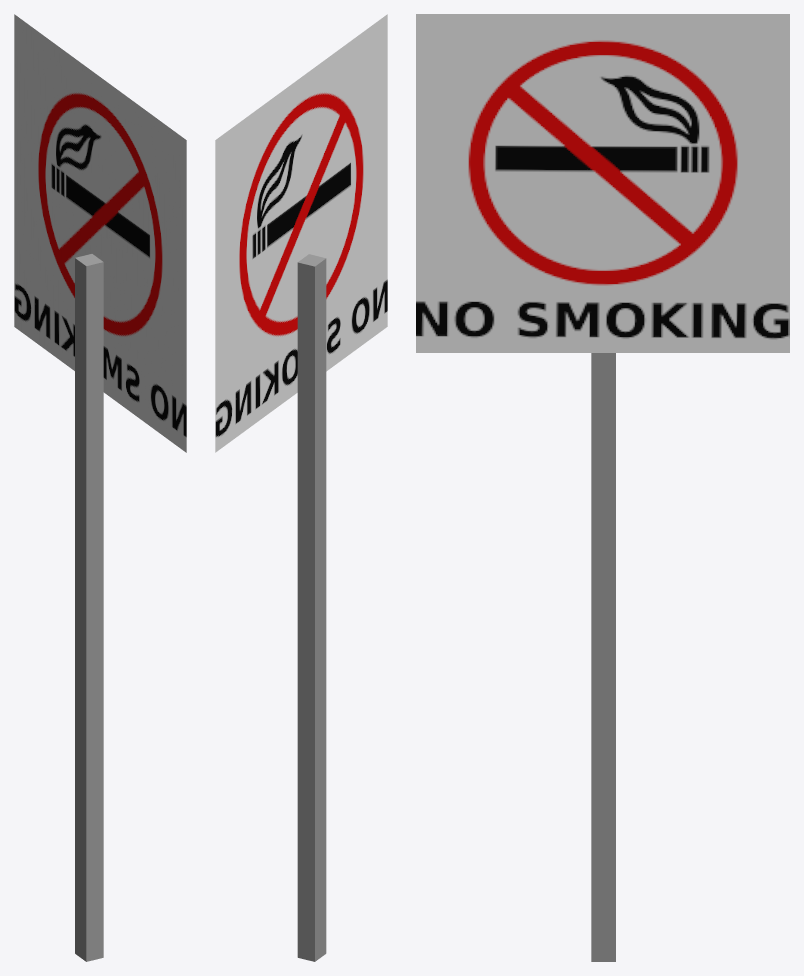
The model's file is ns sign.fbx.
The picture shows the model from 3 angles, left to right: view 1: azimuth 30°, elevation 25°; view 2: azimuth 150°, elevation 25°; view 3: azimuth 270°, elevation 25°; orthographic projection. The views are drawn at different scales.
Visible parts, largest first — view 1: sign_board1; view 2: sign_board1; view 3: sign_board1.
Part boxes in pixels (x1,y1,x2,y2): sign_board1: [14, 14, 186, 961]; sign_board1: [215, 14, 387, 961]; sign_board1: [416, 14, 789, 961].
Bounding box in the file's own units: 4.11 × 176 × 62.99.
